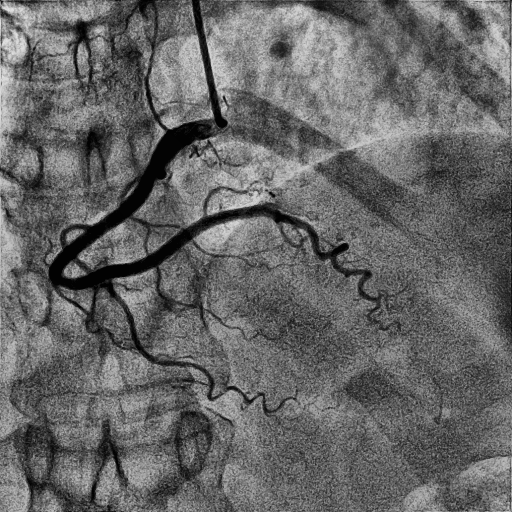pda: (205, 205, 382, 319)
rca: (49, 118, 219, 290)
